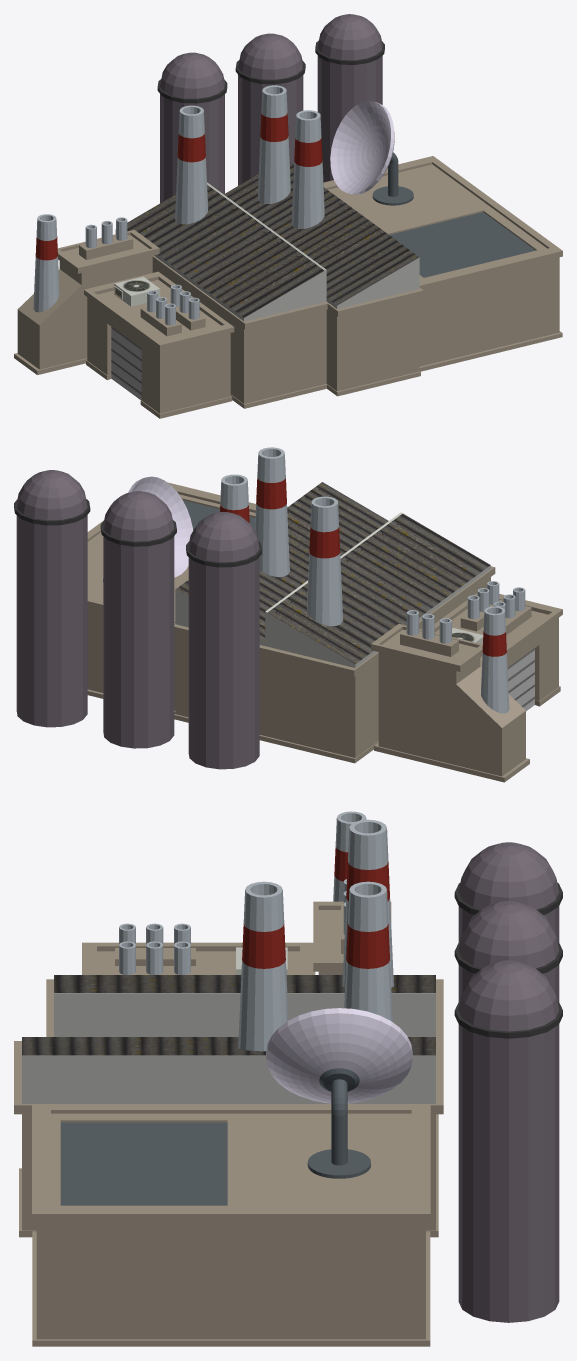
File: S4_VillainFactory.fbx
3 views of the same model, one above another, from view 1: azimuth 30°, elevation 25°; view 2: azimuth 150°, elevation 25°; view 3: azimuth 270°, elevation 25° (orthographic). The views are drawn at different scales.
Visible parts, largest first — view 1: Building3, Building5, Building4, Building1, Building2, Silo3, Silo1, Silo2, DishAntenna, Chimney1, Chimney3, Chimney2 (+5 smaller); view 2: Building3, Silo2, Silo3, Silo1, Building2, Building4, Building1, Building5, Chimney1, Chimney3, Chimney4, DishAntenna (+2 smaller); view 3: Building5, Silo3, Building4, Building3, DishAntenna, Chimney3, openingLeft, openingRight, Silo2, Silo1, Chimney2, Building1 (+3 smaller).
Boxes of the visible parts, x1=… form: Building3: x1=115, y1=182, x2=328, y2=408; Building5: x1=323, y1=156, x2=562, y2=371; Building4: x1=224, y1=162, x2=423, y2=396; Building1: x1=84, y1=271, x2=234, y2=418; Building2: x1=14, y1=229, x2=159, y2=374; Silo3: x1=315, y1=14, x2=384, y2=182; Silo1: x1=157, y1=52, x2=227, y2=203; Silo2: x1=235, y1=33, x2=305, y2=185; DishAntenna: x1=330, y1=101, x2=413, y2=205; Chimney1: x1=175, y1=105, x2=208, y2=224; Chimney3: x1=291, y1=110, x2=324, y2=228; Chimney2: x1=257, y1=85, x2=290, y2=203; Building3: x1=261, y1=512, x2=495, y2=763; Silo2: x1=100, y1=491, x2=176, y2=748; Silo3: x1=14, y1=470, x2=90, y2=727; Silo1: x1=186, y1=512, x2=261, y2=769; Building2: x1=371, y1=624, x2=529, y2=782; Building4: x1=174, y1=482, x2=388, y2=741; Building1: x1=434, y1=593, x2=562, y2=711; Building5: x1=87, y1=482, x2=255, y2=713; Chimney1: x1=307, y1=496, x2=343, y2=626; Chimney3: x1=255, y1=447, x2=289, y2=576; Chimney4: x1=481, y1=606, x2=509, y2=713; DishAntenna: x1=103, y1=476, x2=192, y2=581; Building5: x1=32, y1=1105, x2=430, y2=1346; Silo3: x1=454, y1=960, x2=562, y2=1322; Building4: x1=14, y1=1037, x2=443, y2=1237; Building3: x1=46, y1=975, x2=443, y2=1168; DishAntenna: x1=266, y1=1008, x2=412, y2=1178; Chimney3: x1=238, y1=881, x2=288, y2=1051; openingLeft: x1=144, y1=1122, x2=227, y2=1205; openingRight: x1=60, y1=1122, x2=143, y2=1205; Silo2: x1=454, y1=900, x2=562, y2=1001; Silo1: x1=454, y1=842, x2=562, y2=942; Chimney2: x1=344, y1=881, x2=392, y2=1021; Building1: x1=82, y1=942, x2=315, y2=974.
Bounding box in the file's own units: 1220 × 595 × 872.
